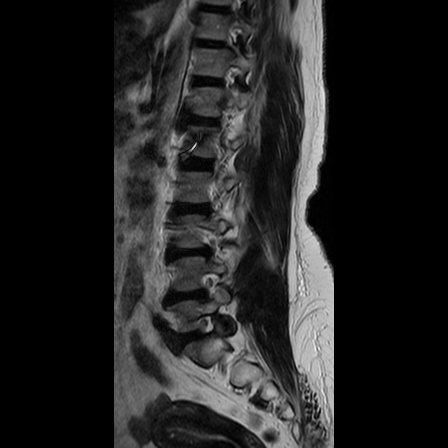LFS0: (193, 263, 227, 305)
